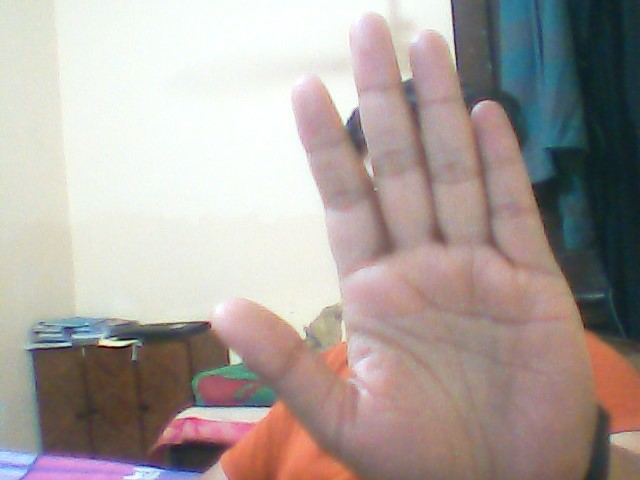Hello: (210, 10, 616, 480)
